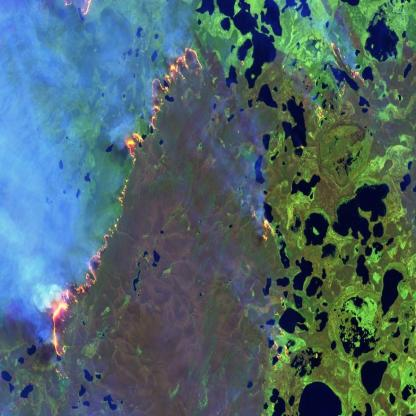fire: (40, 0, 367, 392)
